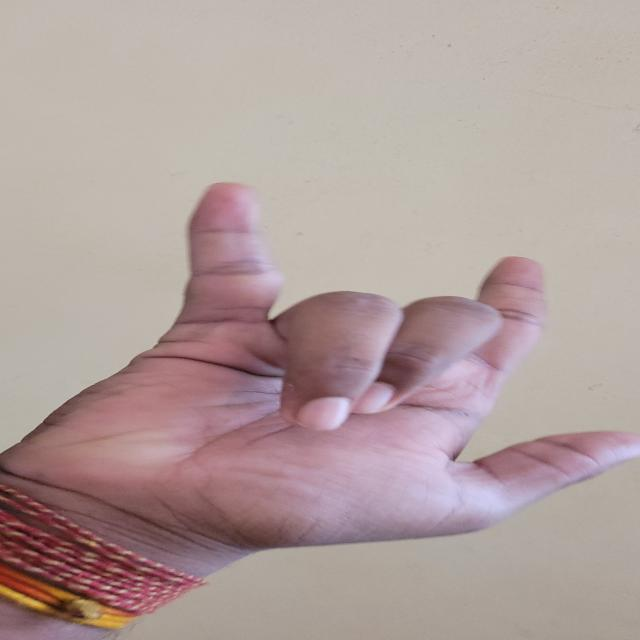i like you: (26, 171, 640, 618)
